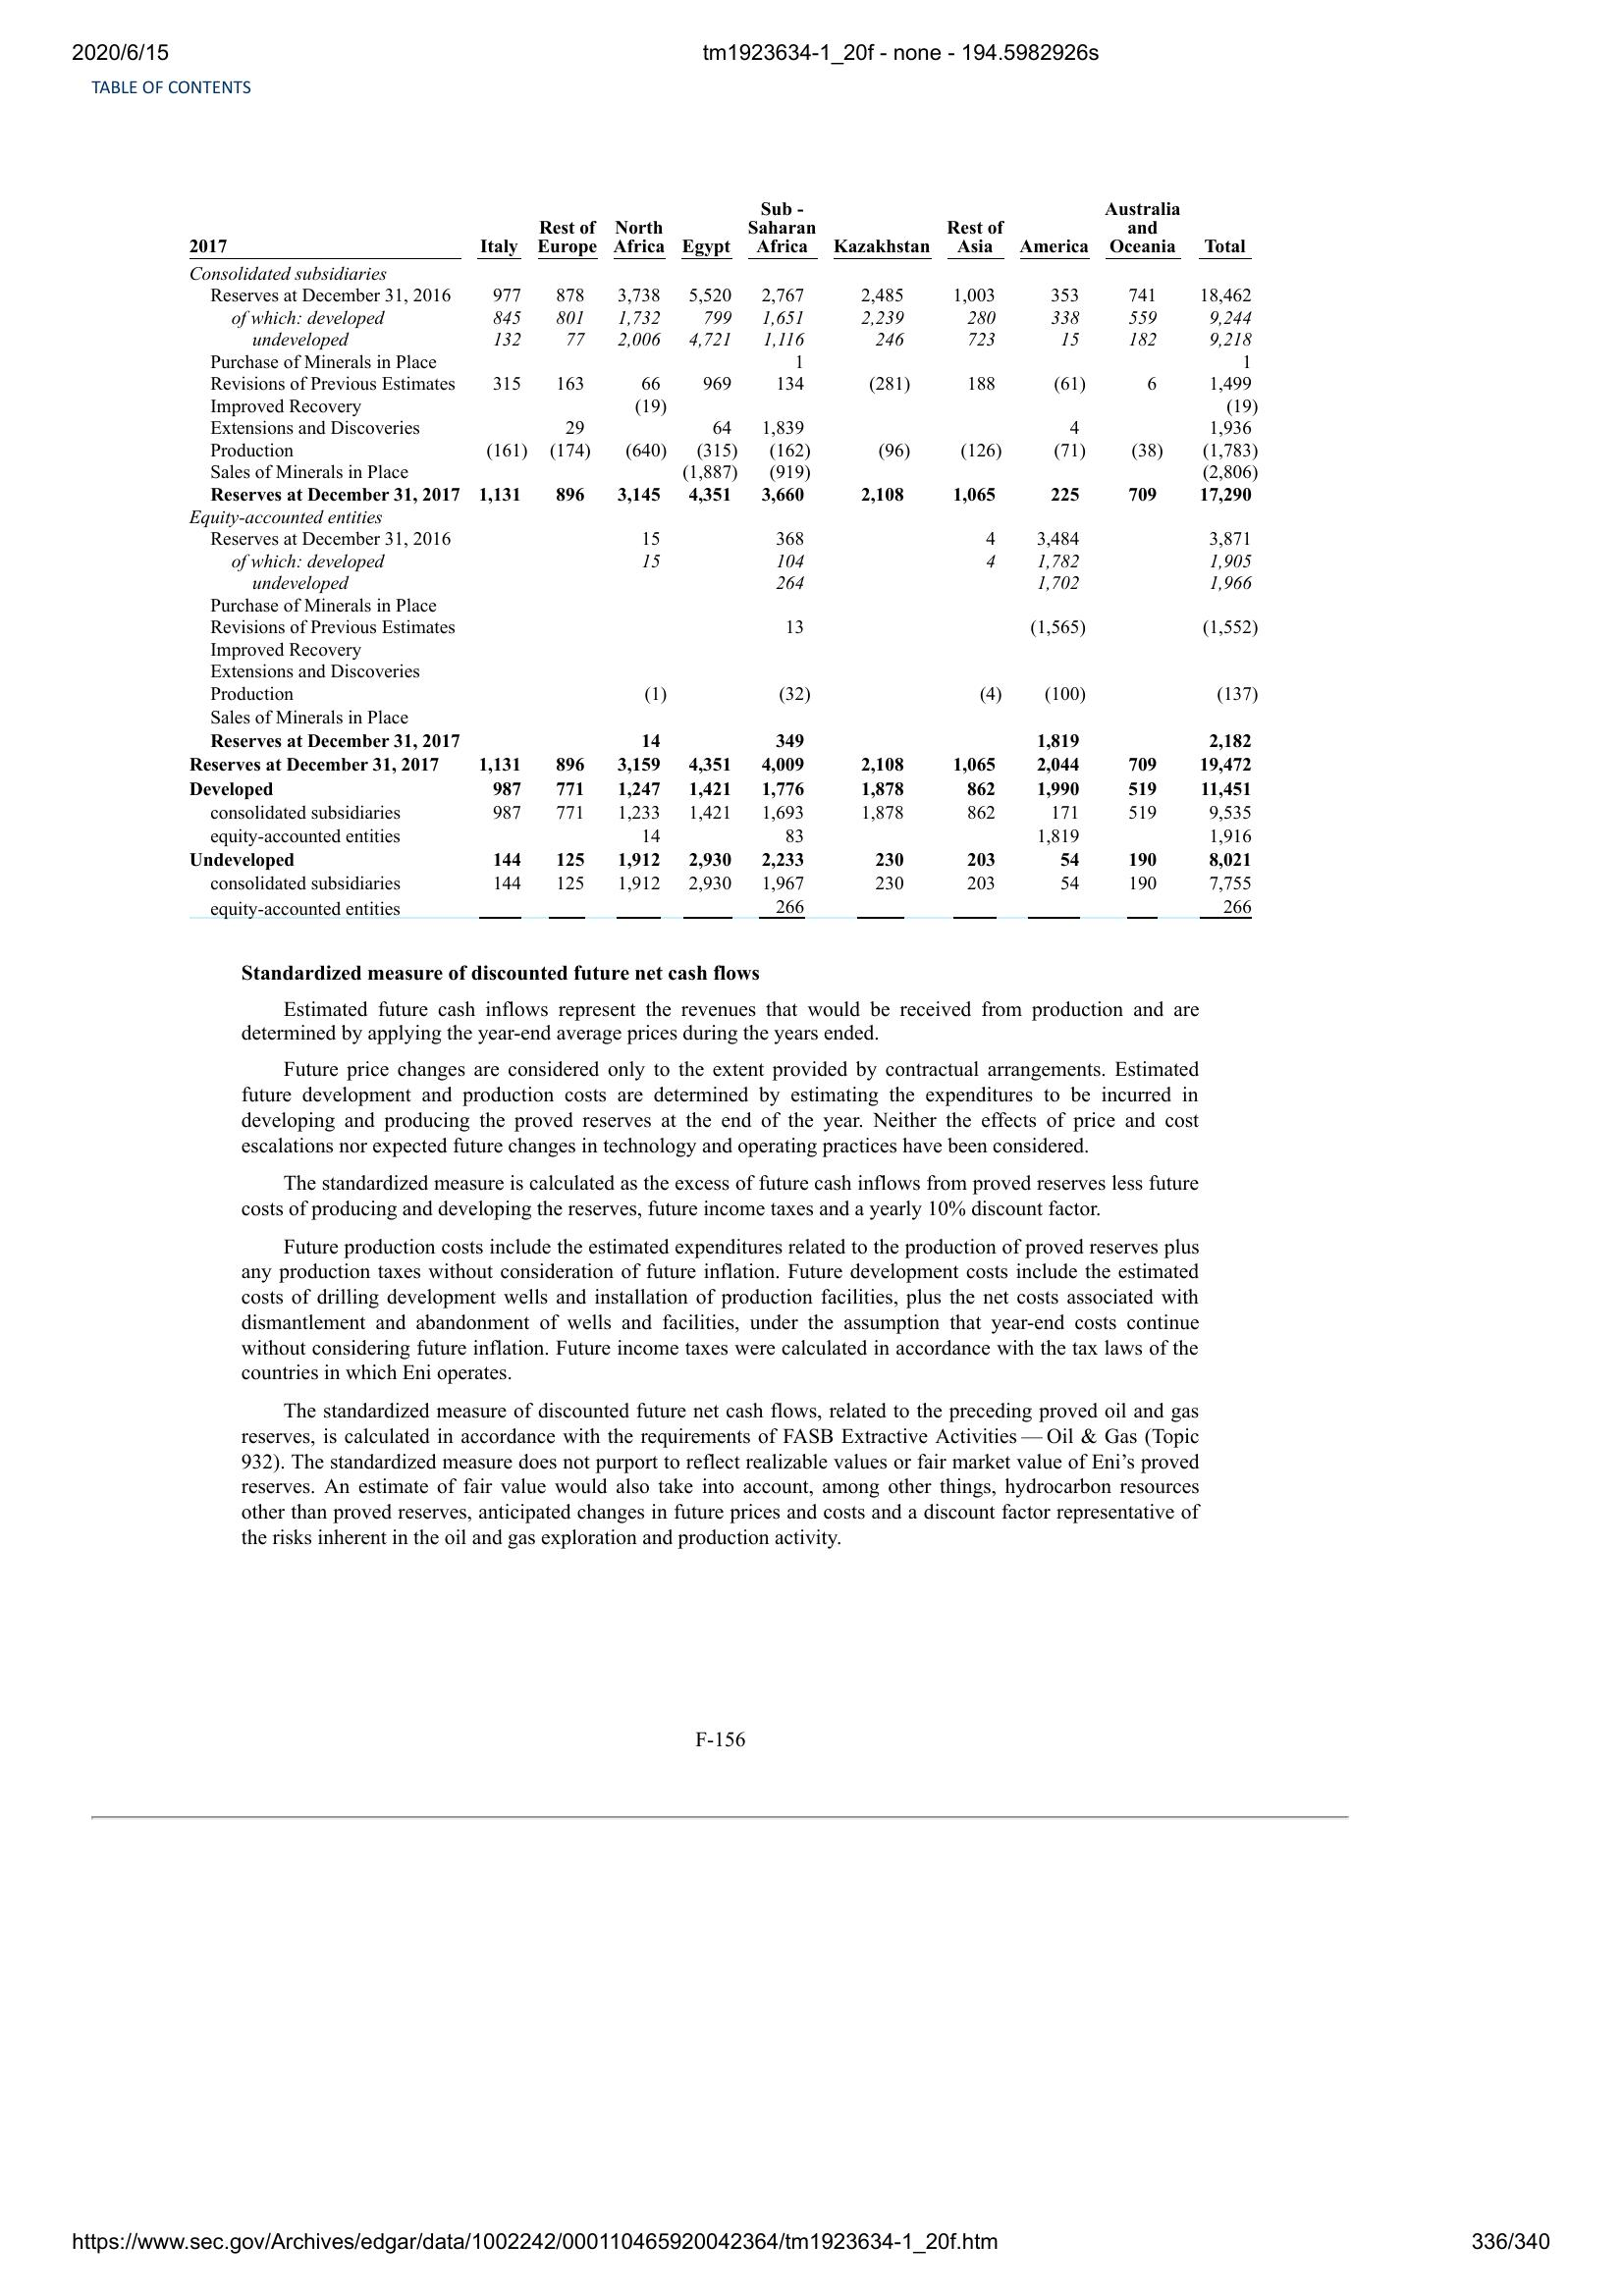table: (181, 200, 1259, 922)
